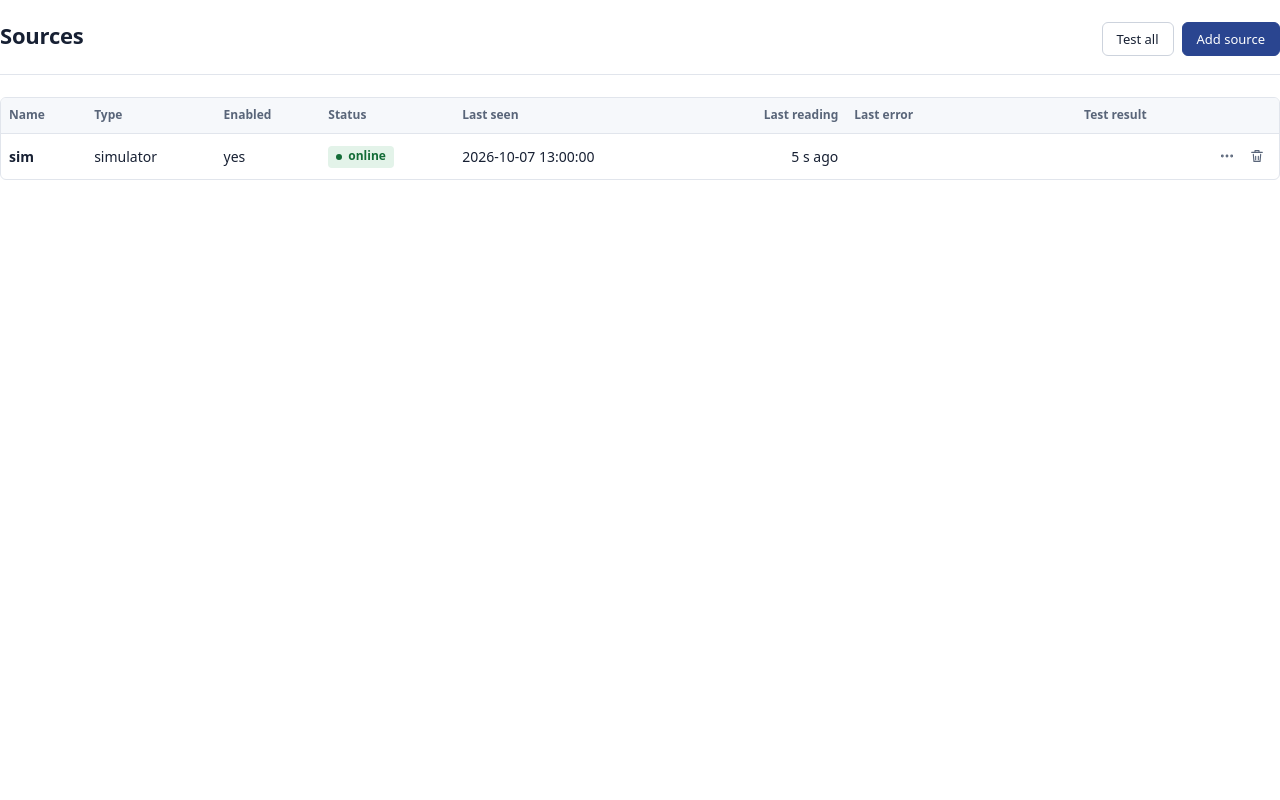
Test: SourcesPage › adding and editing › saves an edit with PATCH, closes the dialog and fetches the list again
The width and height of the screenshot is (1280, 800).
Click the button named "Actions for ": (1227,156) [1213,142,1241,170]
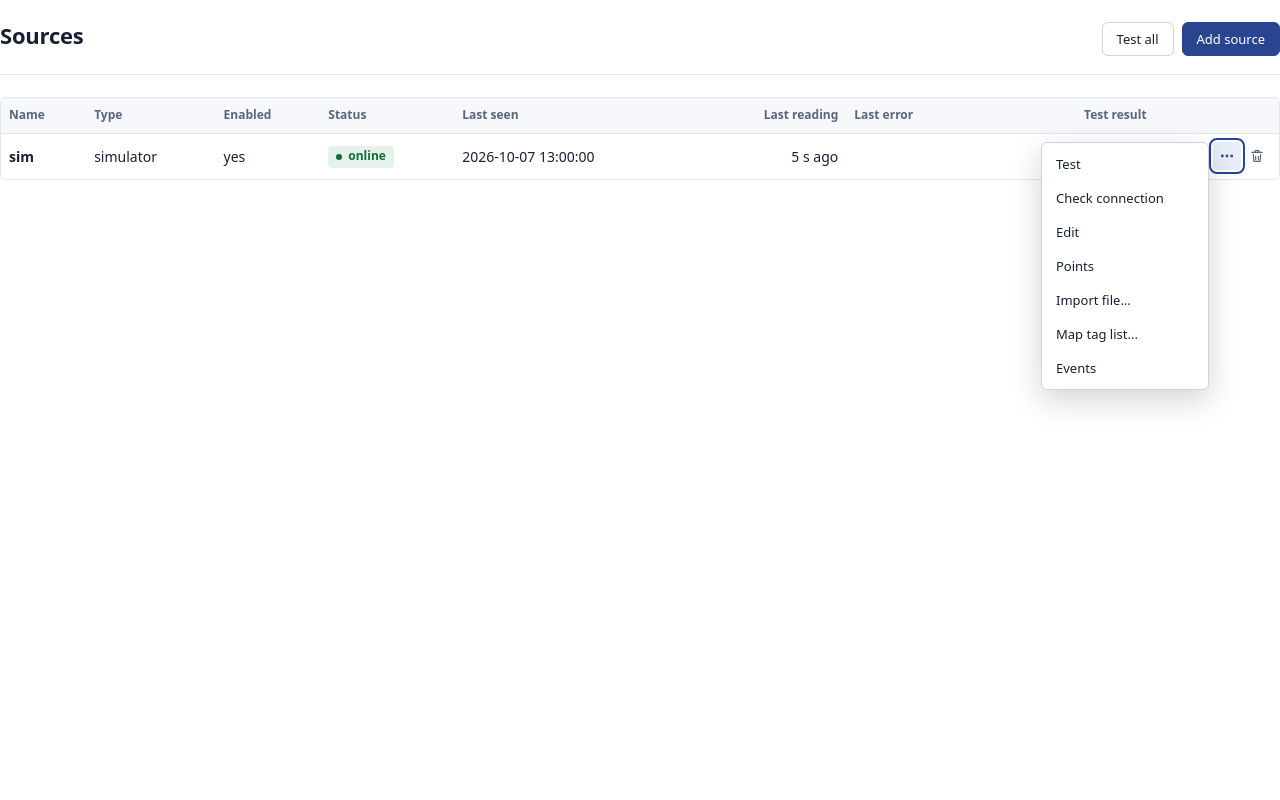
Click the menu item "Edit": (1125,232) [1046,215,1204,249]
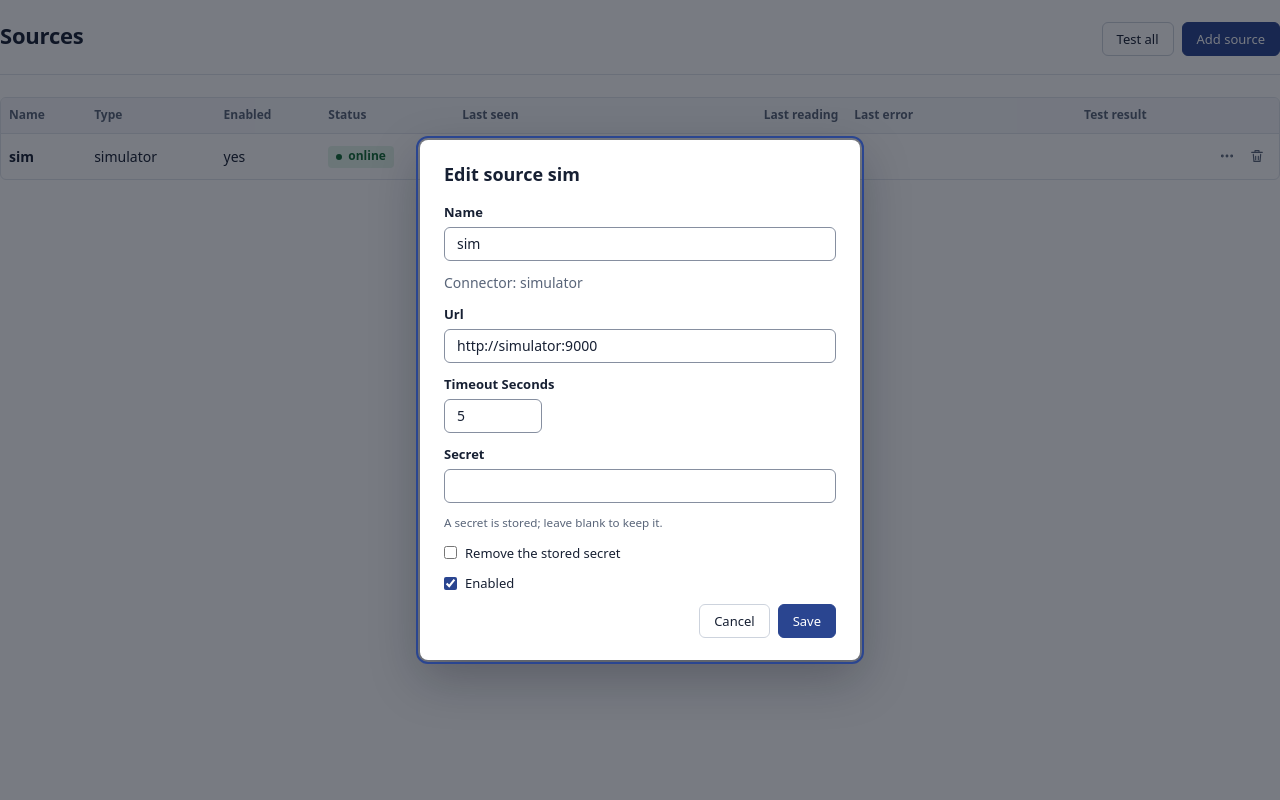
Replace the text in the field labelled "Name" with "renamed": (640,244) [444,227,836,261]
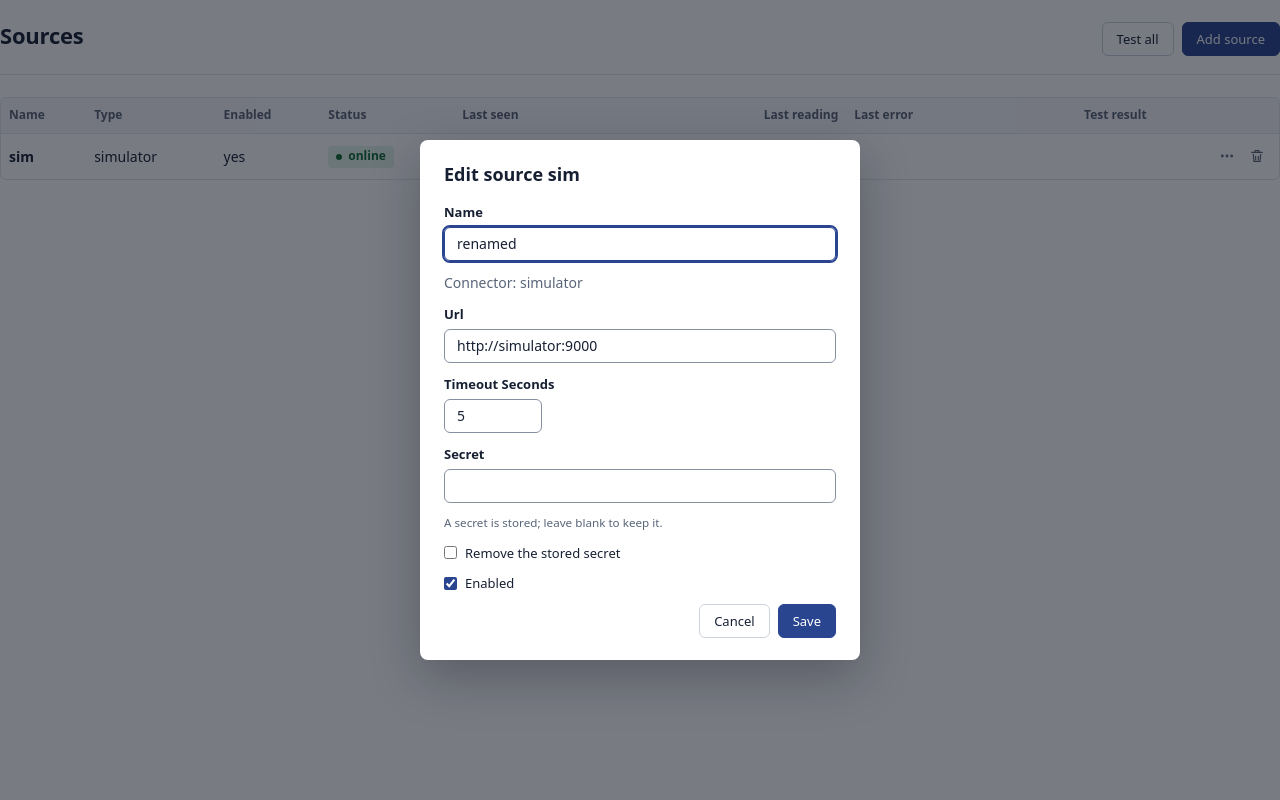
Click the button "Save": (807,621) [778,604,836,638]
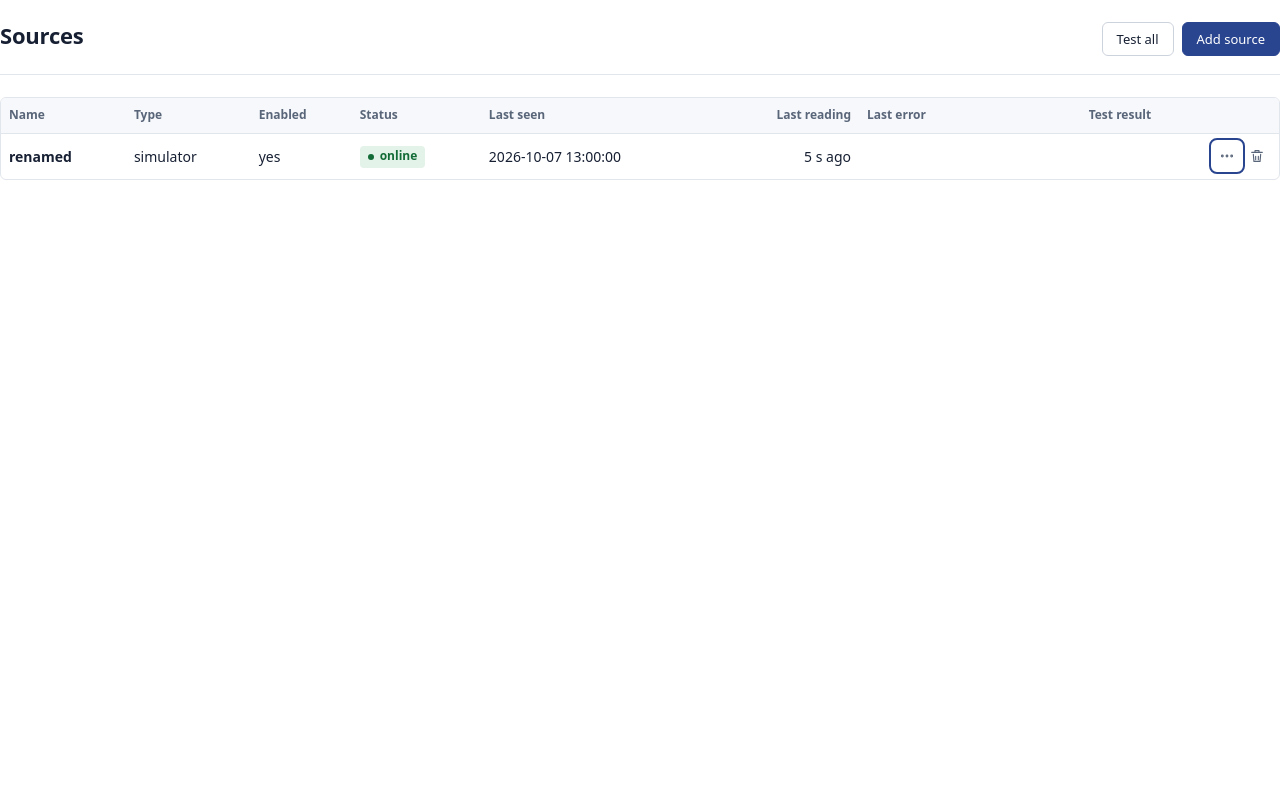
Result: the dialog is gone
Result: the text "renamed" is shown at [9,146,72,166]
